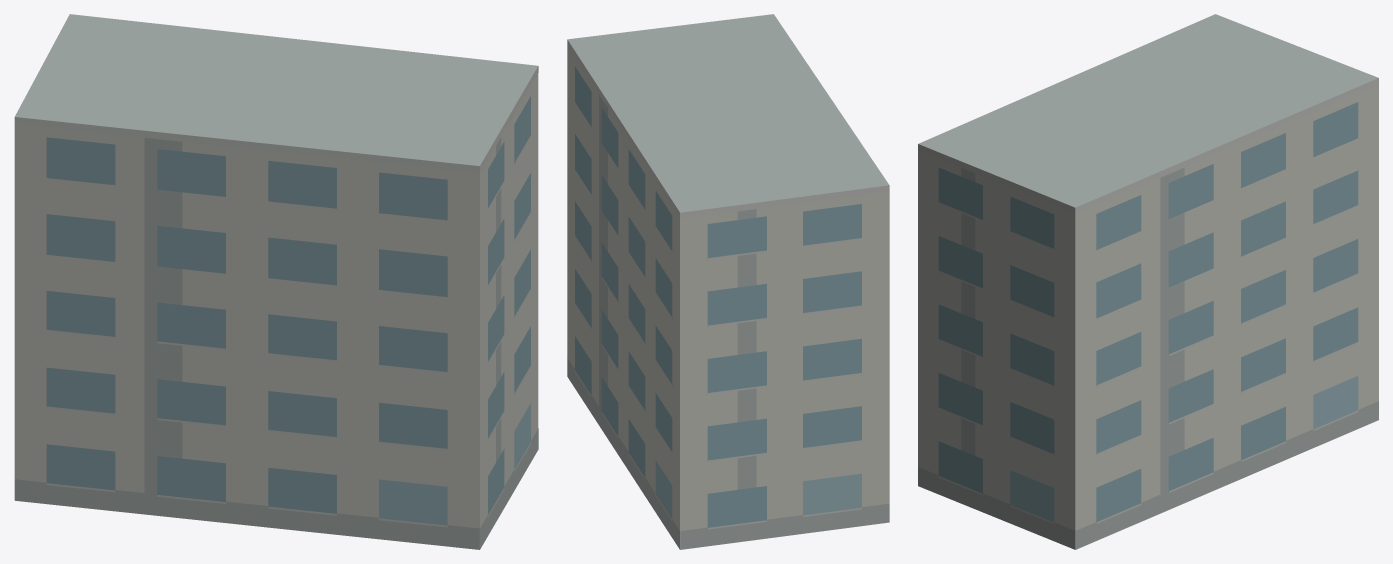
File: survey-upis-32886849.glb
The picture shows the model from 3 angles, left to right: view 1: azimuth 30°, elevation 25°; view 2: azimuth 150°, elevation 25°; view 3: azimuth 270°, elevation 25°; orthographic projection. The views are drawn at different scales.
Visible parts, largest first — view 1: survey-upis-32886849.tmp; view 2: survey-upis-32886849.tmp; view 3: survey-upis-32886849.tmp.
Boxes of the visible parts, x1,y1,x2,y2 form: survey-upis-32886849.tmp: (14, 14, 538, 549); survey-upis-32886849.tmp: (567, 14, 889, 549); survey-upis-32886849.tmp: (918, 14, 1378, 549).
Size of the model in its own units: 15.91 by 13.1 by 15.99.
